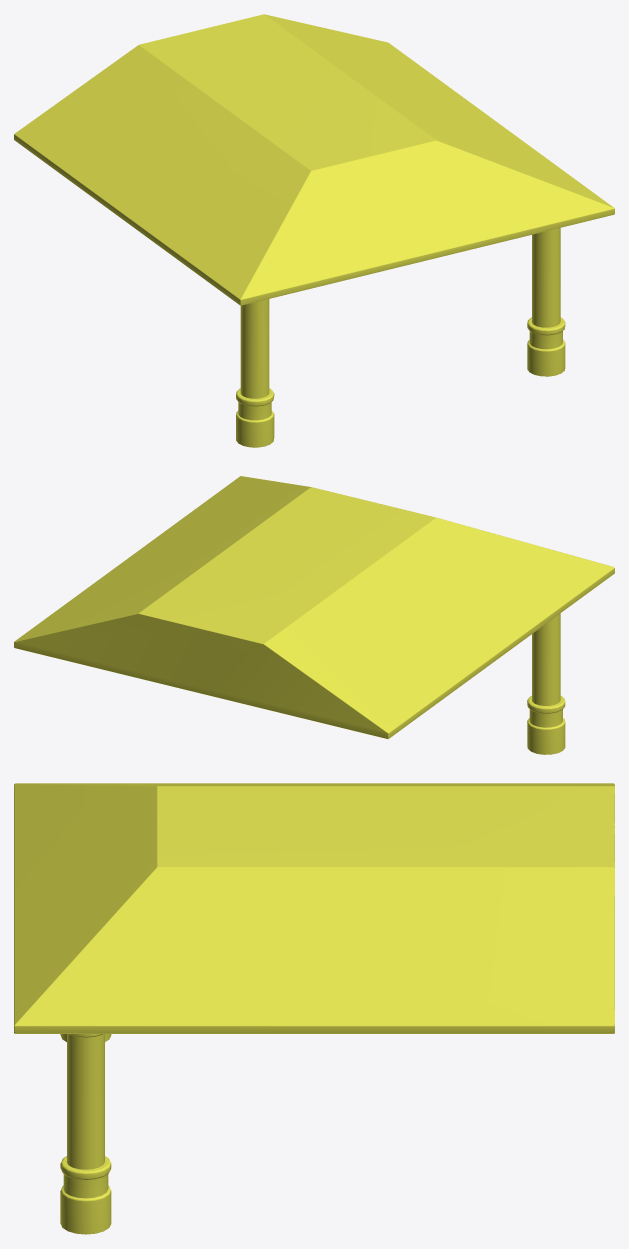
File: School_Entrance.fbx
3 renders of one model, top to bottom at view 1: azimuth 30°, elevation 25°; view 2: azimuth 150°, elevation 25°; view 3: azimuth 270°, elevation 25°, orthographic. The views are drawn at different scales.
Visible parts, largest first — view 1: School_Awning, School_Pillar2, School_Pillar1; view 2: School_Awning, School_Pillar2; view 3: School_Awning, School_Pillar1.
Part boxes in pixels (bbox=[...]): School_Awning: bbox=[14, 14, 614, 305]; School_Pillar2: bbox=[236, 299, 274, 447]; School_Pillar1: bbox=[527, 228, 565, 376]; School_Awning: bbox=[14, 476, 614, 739]; School_Pillar2: bbox=[527, 613, 565, 754]; School_Awning: bbox=[14, 783, 614, 1033]; School_Pillar1: bbox=[60, 1034, 111, 1234].
Size of the model in its own units: 30.04 by 17.52 by 31.47.
